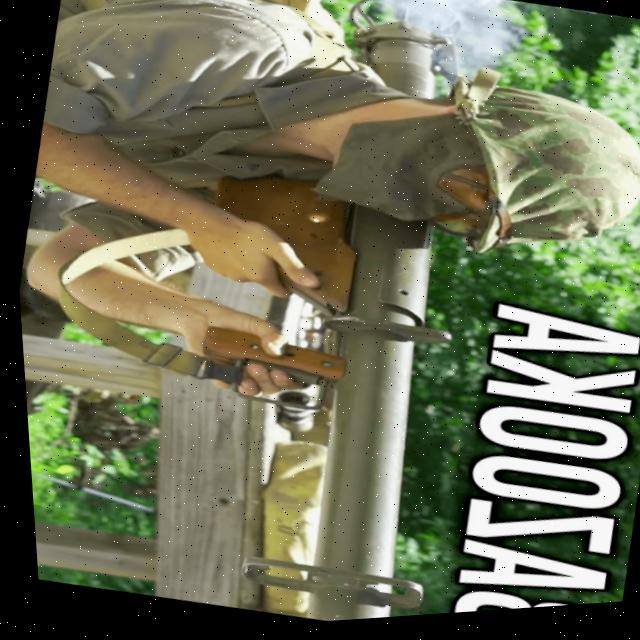rocket: (123, 0, 538, 634)
